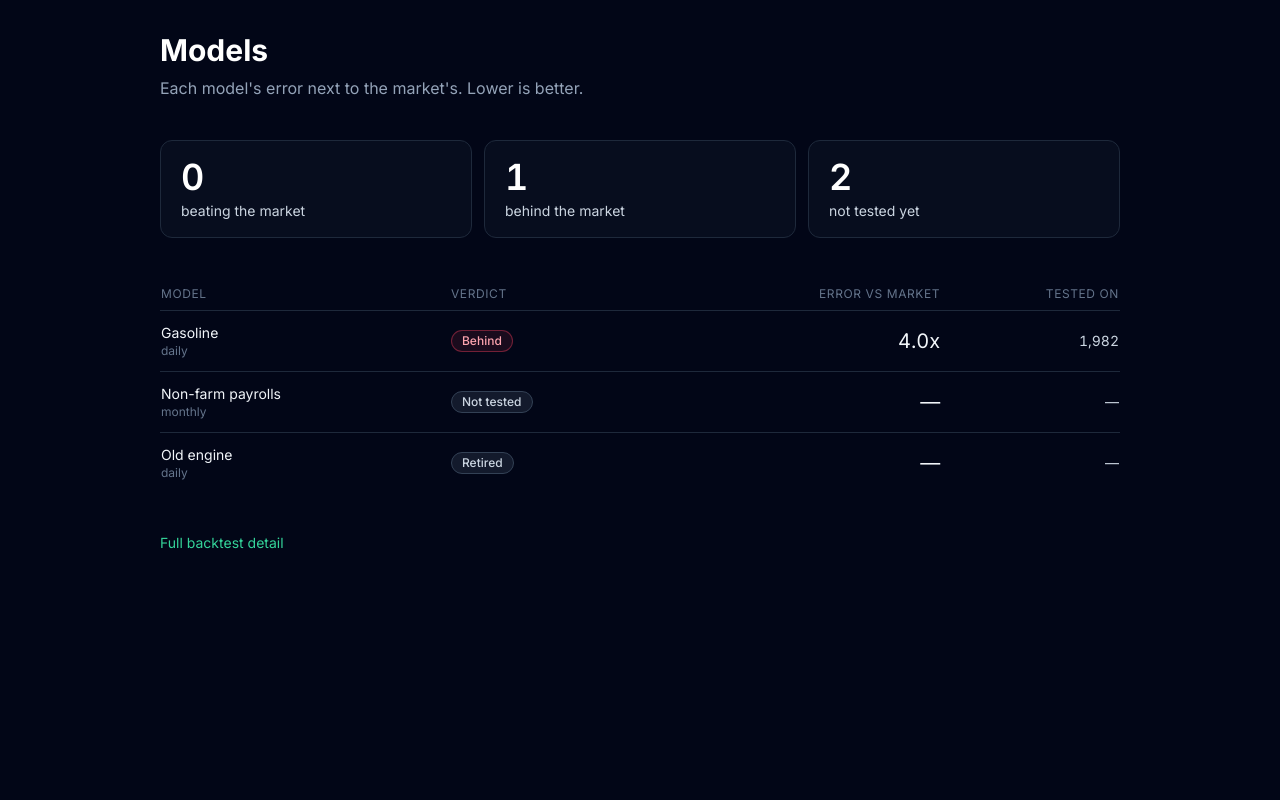
Models › opens the claim, the backtest and both settled bars only on request
Expected: the text "Own gate" is not shown
Click the button "Gasoline" at (190, 333), box [161,323,218,343]
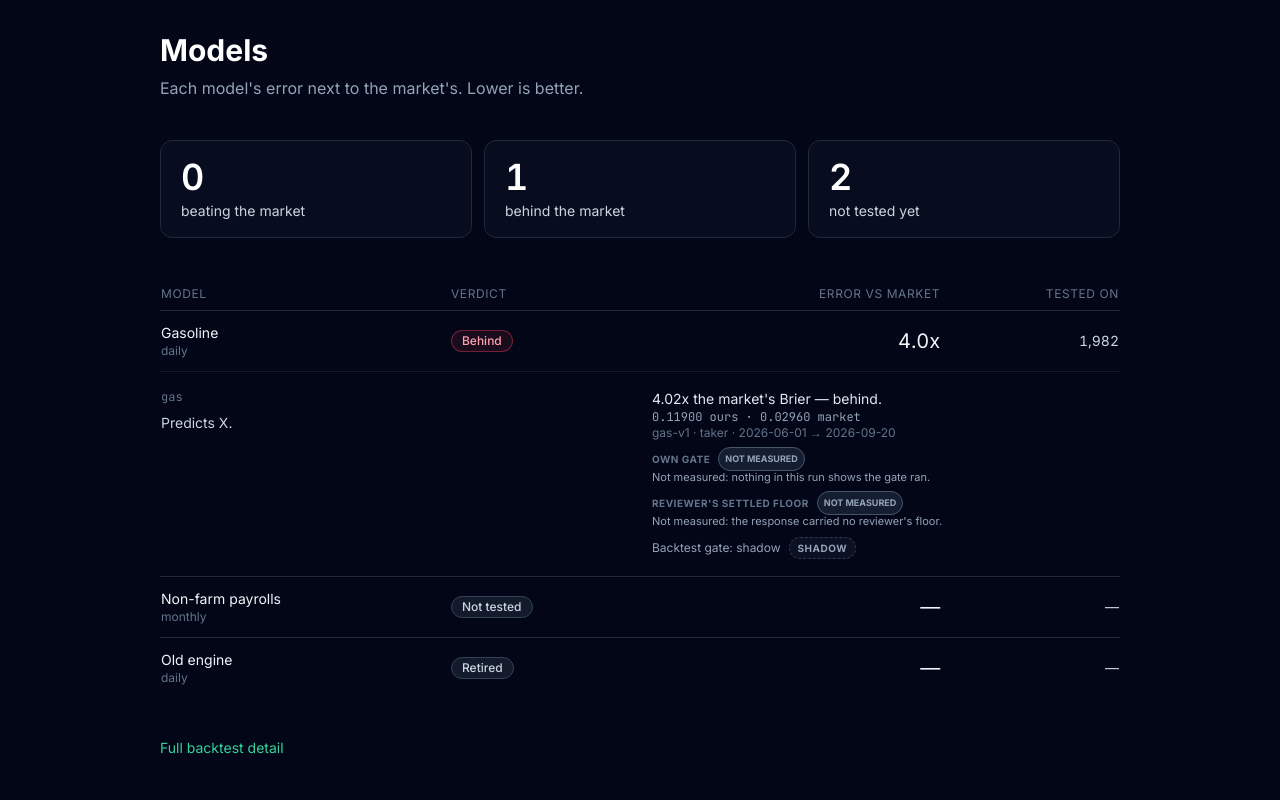
Expected: the text "Predicts X." is shown, [161,414,232,431]
Expected: the text "Own gate" is shown, [652,449,710,469]
Expected: the text "Reviewer's settled floor" is shown, [652,493,809,513]
